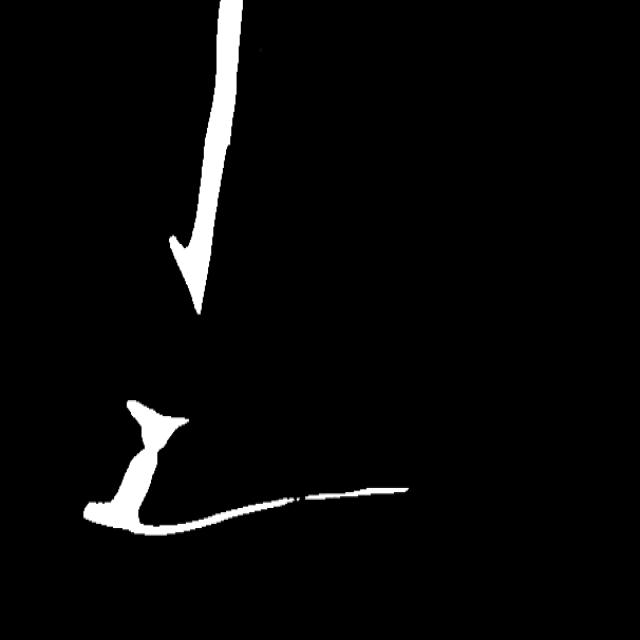inf: (287, 491, 312, 510)
